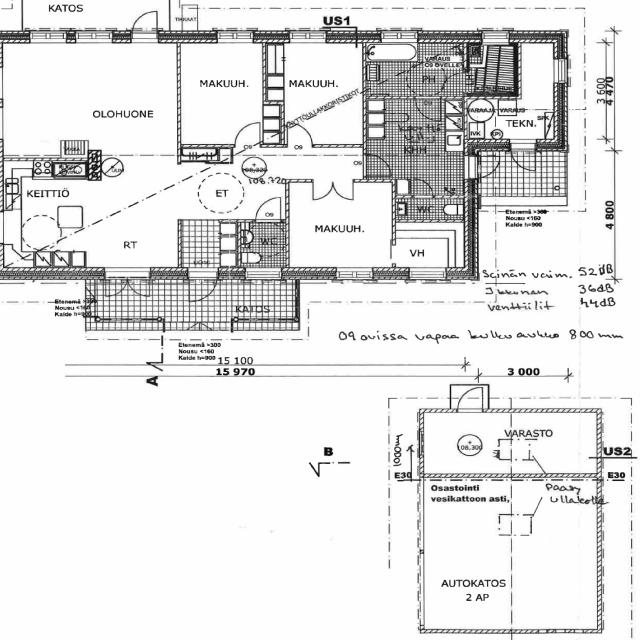door: (189, 268, 217, 304), (464, 156, 504, 178), (133, 9, 157, 43), (511, 139, 535, 172), (128, 267, 150, 299), (106, 267, 128, 299), (235, 122, 260, 147), (363, 154, 391, 176), (416, 96, 440, 121), (458, 388, 482, 412), (288, 123, 312, 147), (256, 198, 280, 222), (442, 73, 469, 92), (313, 179, 333, 200), (334, 179, 354, 200), (414, 178, 434, 198)
